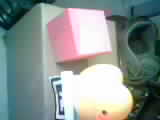duck: (65, 62, 136, 112)
